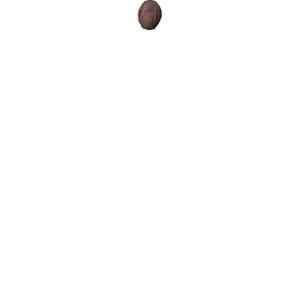coco: (137, 1, 162, 30)
